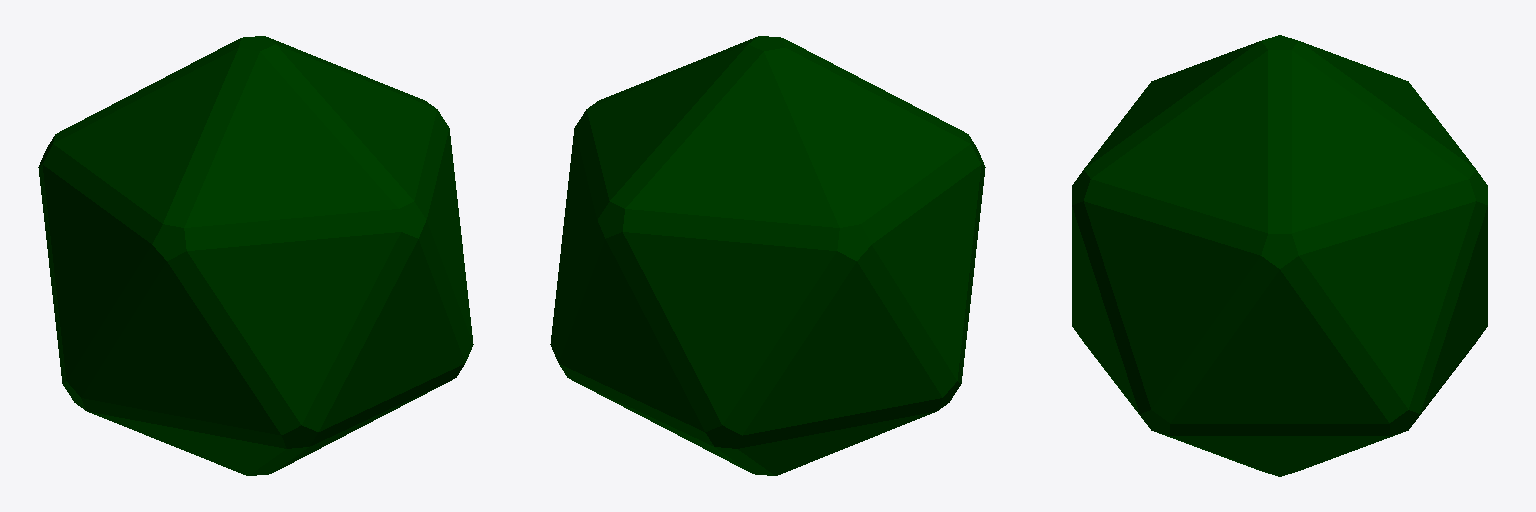
File: gem.obj
The picture shows the model from 3 angles: view 1: azimuth 30°, elevation 25°; view 2: azimuth 150°, elevation 25°; view 3: azimuth 270°, elevation 25°; orthographic projection.
Parts seen in each view (by area): view 1: Icosphere; view 2: Icosphere; view 3: Icosphere.
Boxes of the visible parts, <box> form: Icosphere: <box>38,36,473,475</box>; Icosphere: <box>550,36,985,475</box>; Icosphere: <box>1072,35,1487,476</box>.
Size of the model in its own units: 1.75 by 1.88 by 1.67.